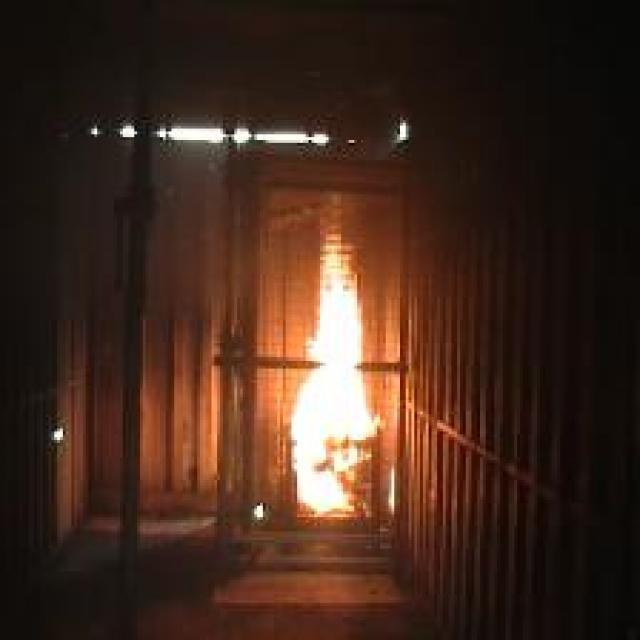Fire: (290, 228, 384, 518)
